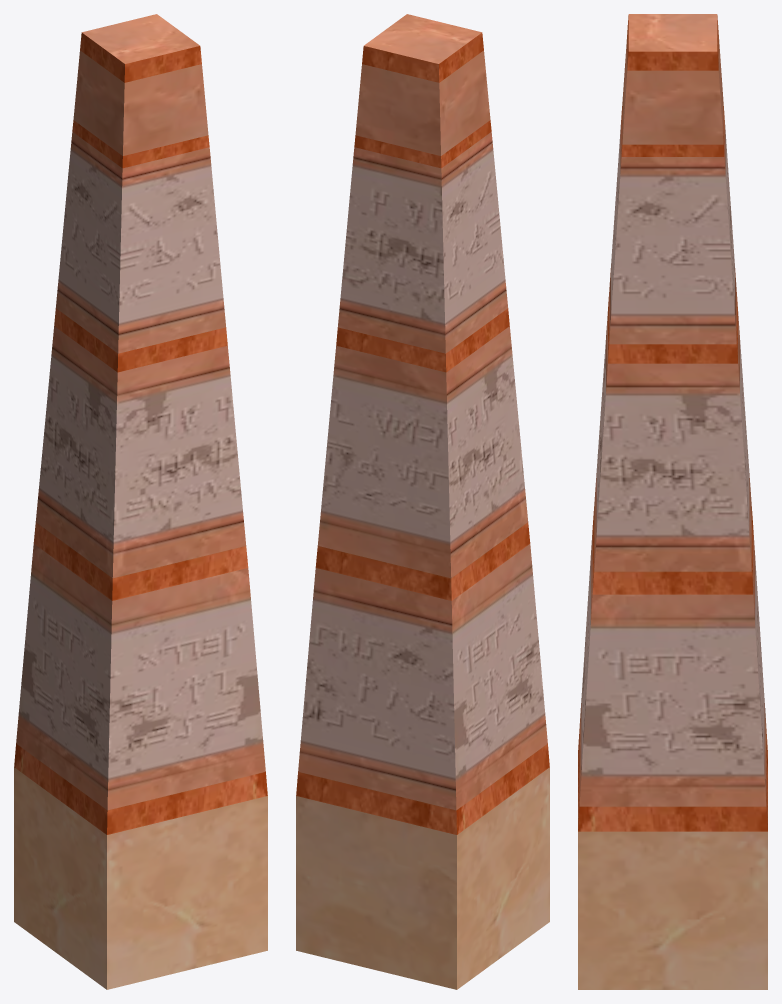
Rendered from pm-colony-monolith-02.glb.
3 views of the same model, side by side, from view 1: azimuth 30°, elevation 25°; view 2: azimuth 150°, elevation 25°; view 3: azimuth 270°, elevation 25° (orthographic). The views are drawn at different scales.
Parts seen in each view (by area): view 1: Colony_Monolith_02_Art; view 2: Colony_Monolith_02_Art; view 3: Colony_Monolith_02_Art.
Boxes of the visible parts, left/top/right/bottom form: Colony_Monolith_02_Art: left=14, top=14, right=267, bottom=989; Colony_Monolith_02_Art: left=296, top=14, right=549, bottom=989; Colony_Monolith_02_Art: left=578, top=14, right=767, bottom=989.
Size of the model in its own units: 1.4 by 7.46 by 1.4.
1 material, 1 textured.
